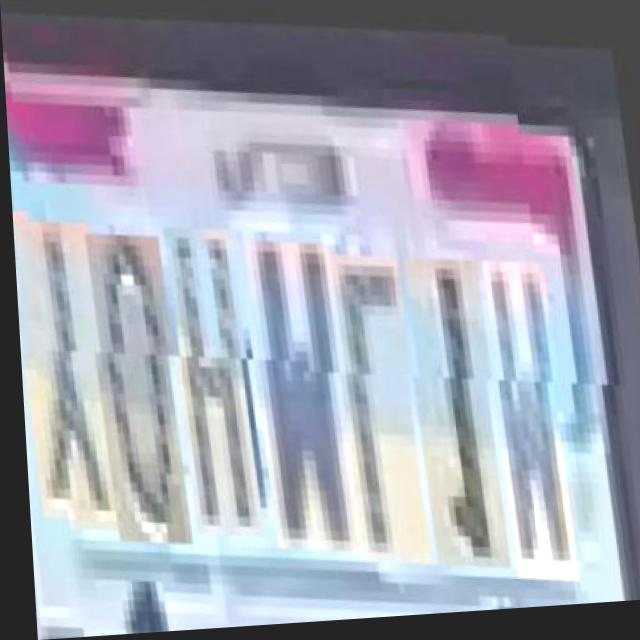1: (406, 247, 512, 567)
h: (168, 219, 266, 538)
l: (333, 244, 433, 564)
m: (247, 231, 365, 553), (485, 250, 579, 578)
o: (89, 226, 194, 546)
y: (15, 212, 127, 534)
